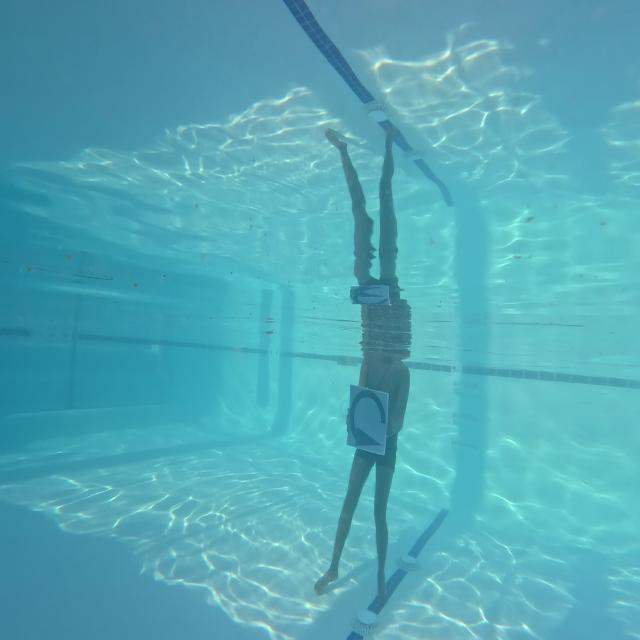blue_side: (346, 381, 391, 456)
